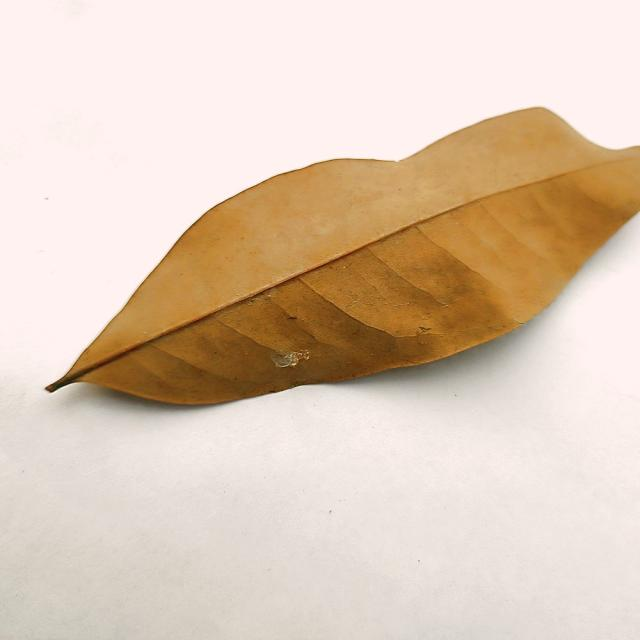Dry_Leaf-Lychee: (46, 108, 639, 410)
